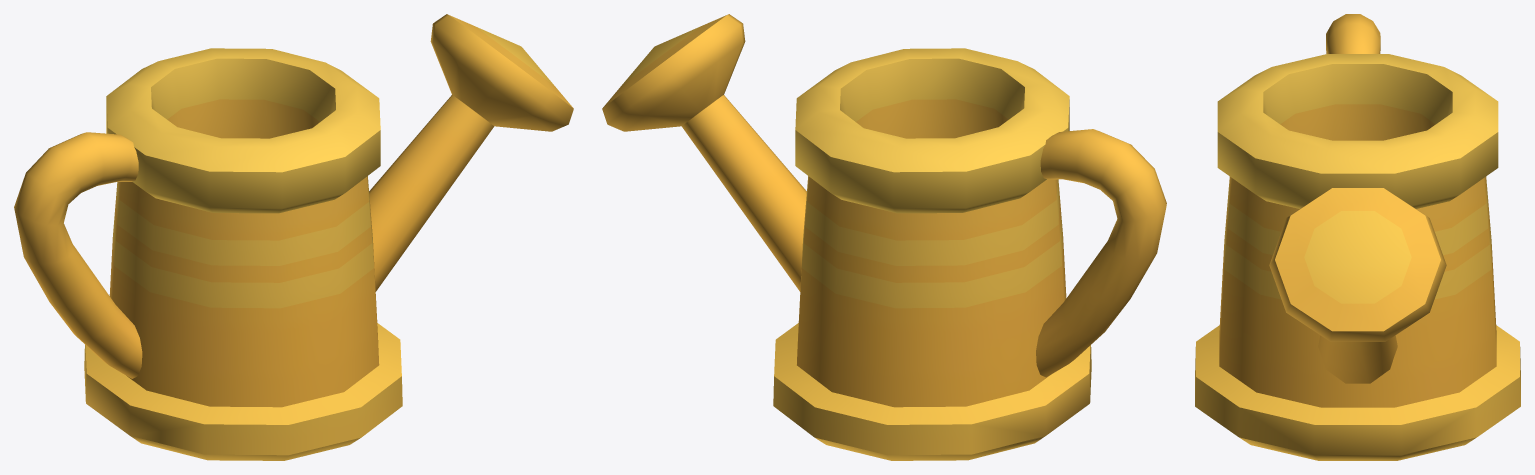
Rendered from vattenkanna.glb.
3 renders of one model, left to right at view 1: azimuth 30°, elevation 25°; view 2: azimuth 150°, elevation 25°; view 3: azimuth 270°, elevation 25°, orthographic.
Parts seen in each view (by area): view 1: watering_can_B; view 2: watering_can_B; view 3: watering_can_B.
Part boxes in pixels (left/top/right/bottom): watering_can_B: left=14, top=14, right=573, bottom=460; watering_can_B: left=602, top=14, right=1166, bottom=460; watering_can_B: left=1195, top=14, right=1520, bottom=460.
Size of the model in its own units: 1.15 by 0.6501 by 0.6001.
1 material, 1 textured.
